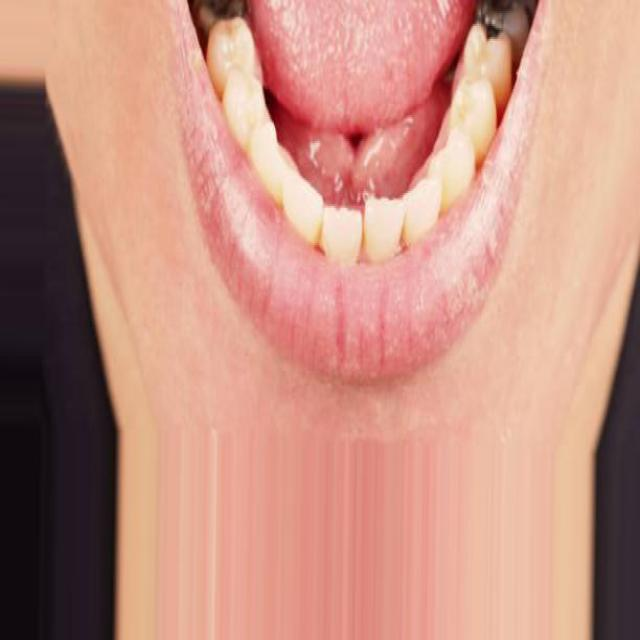caries: (467, 0, 526, 50), (192, 0, 253, 42)
